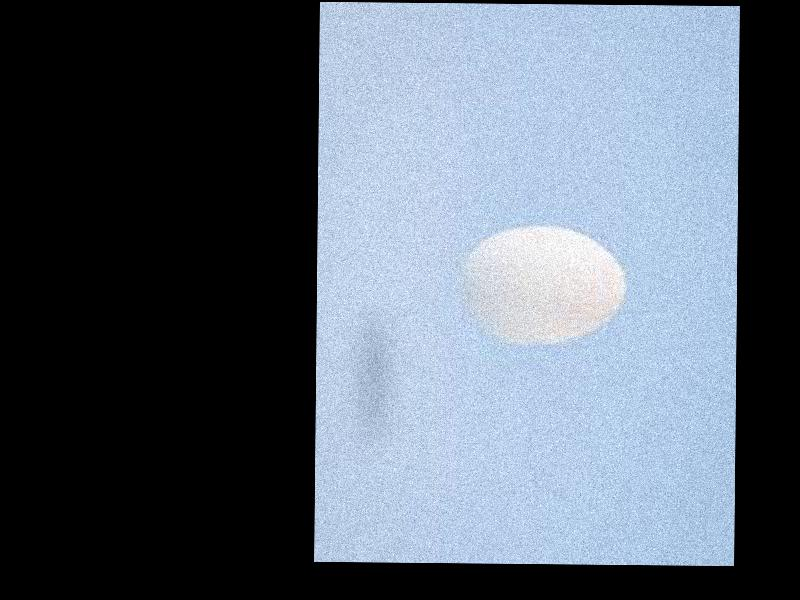Eggs: (458, 224, 627, 346)
